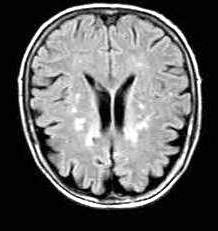Normal_Brain: (4, 2, 218, 219)
